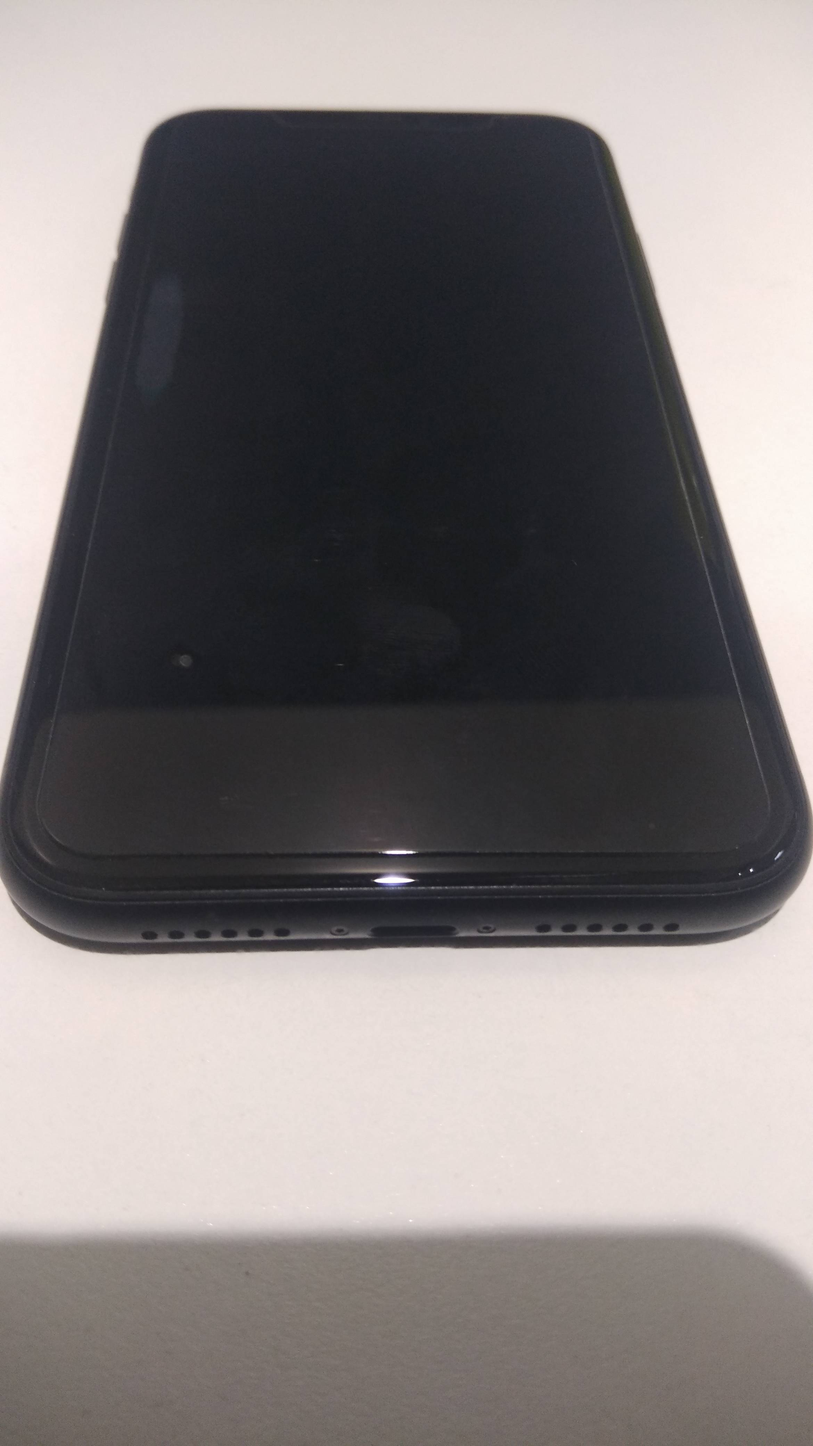Electronics: (2, 88, 813, 989)
